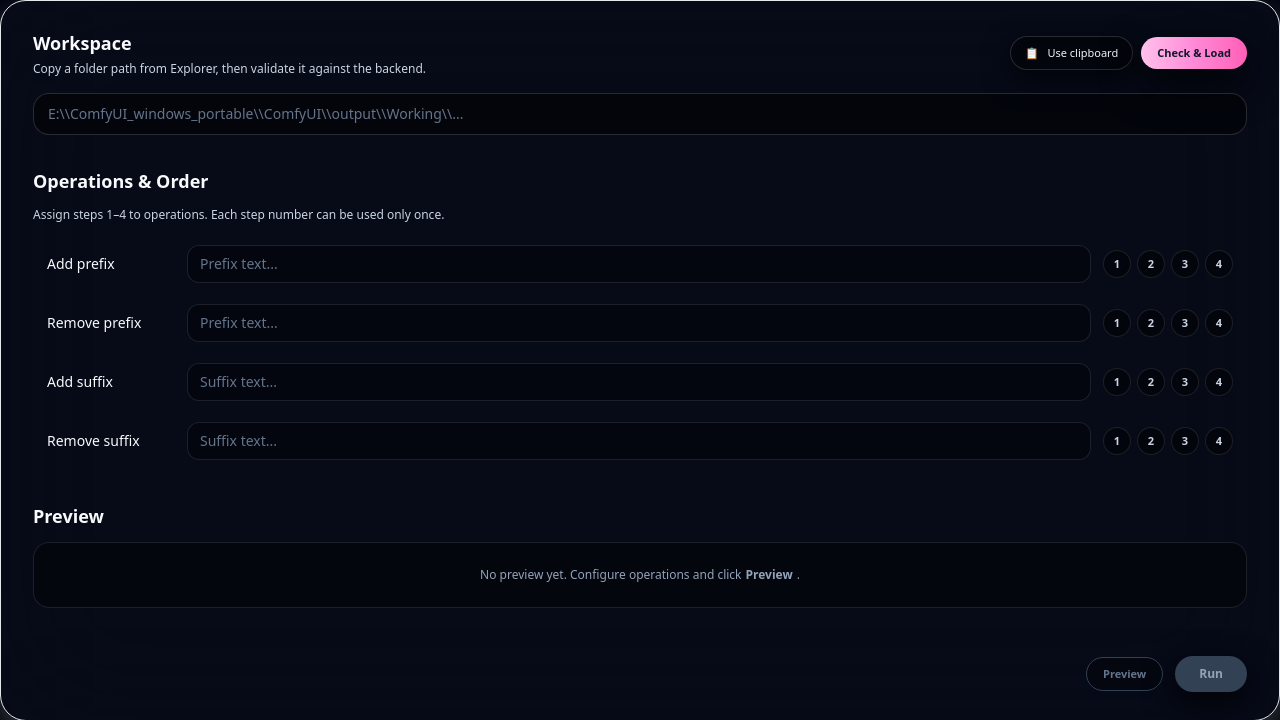
it: OpsConsole operations grid › shows a step hint when clicking a step on an empty row
Click the button "1" in the row of "Add prefix": point(1117, 264) x1=1103 y1=250 x2=1131 y2=278
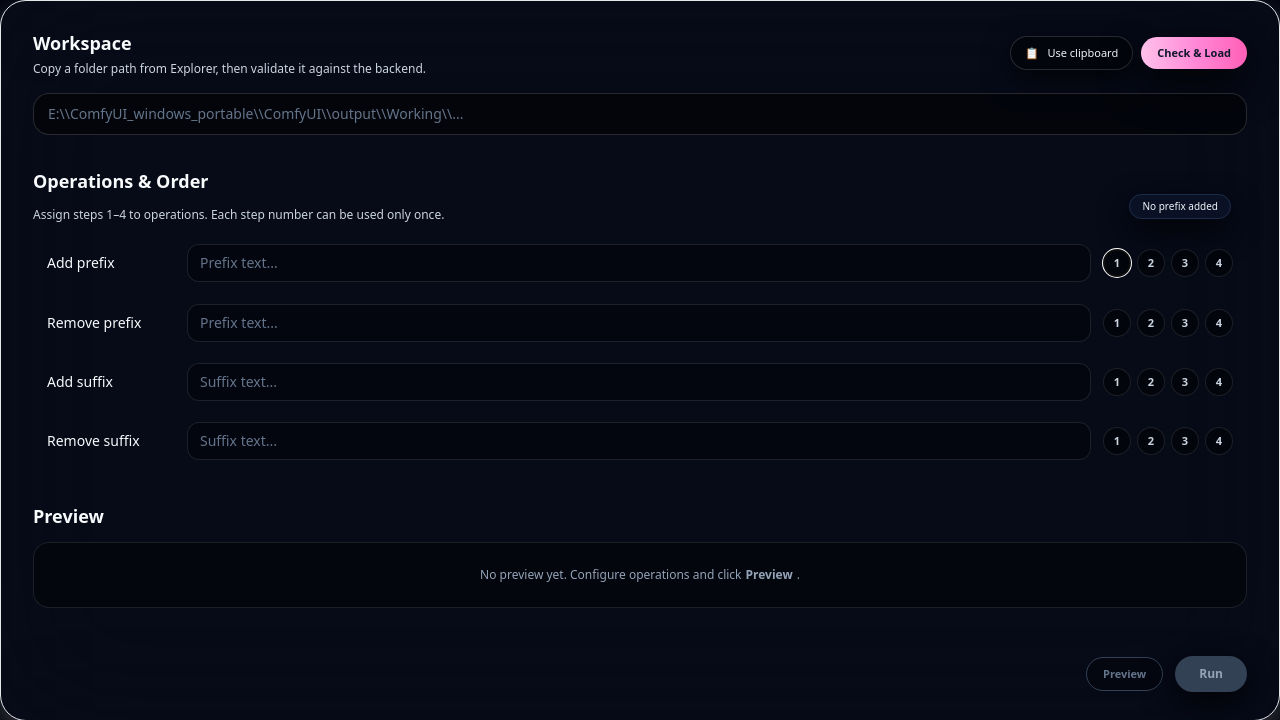
Result: the text "No prefix added" is shown at x1=1129 y1=194 x2=1231 y2=219
